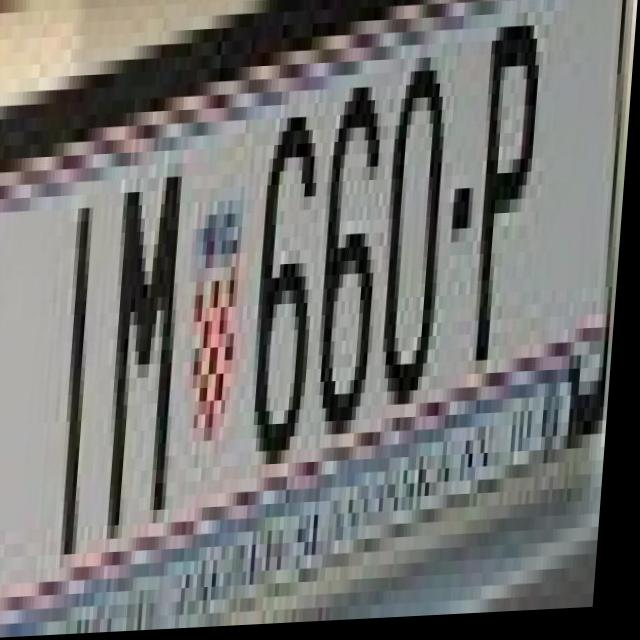0: (374, 48, 452, 410)
6: (241, 120, 324, 443), (320, 64, 394, 426)
M: (104, 165, 189, 528)
P: (465, 17, 547, 394)
